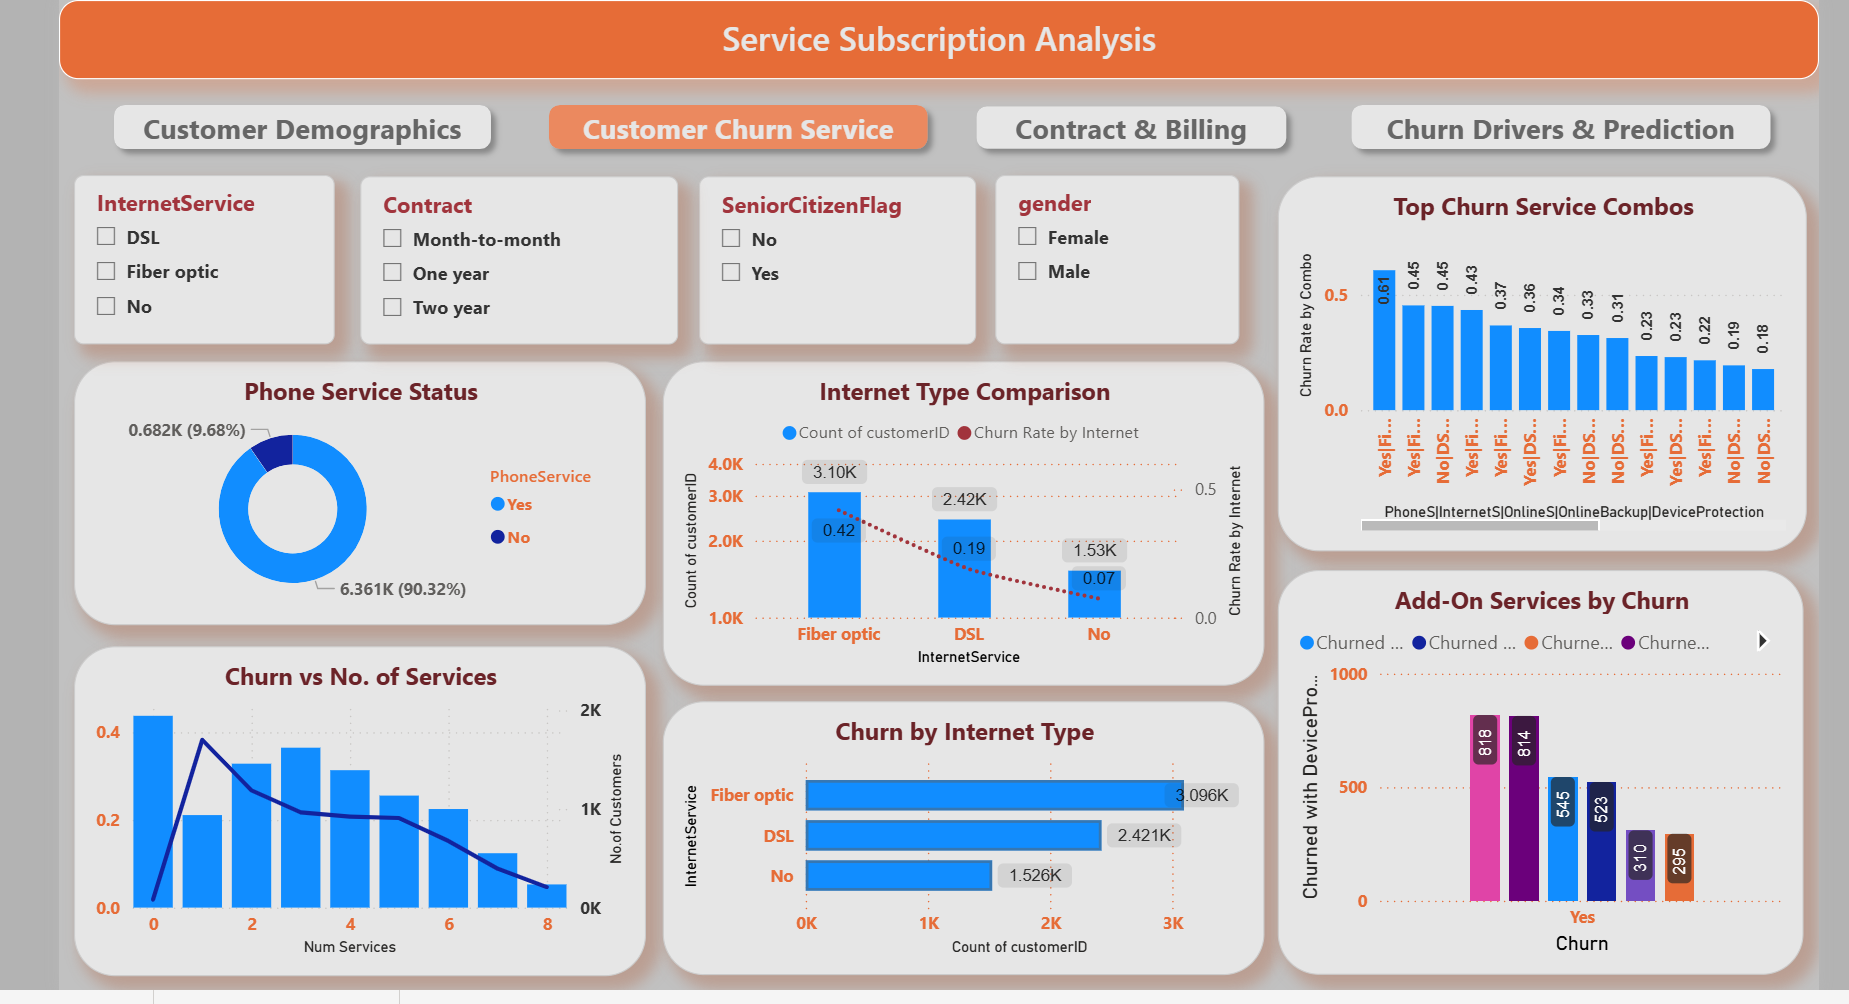

Layout of this report page (visuals, bound fields, positions):
{"tool":"powerbi","page":{"name":"Page 2","canvas":[1280,720],"ordinal":1},"visuals":[{"type":"donutChart","title":"Phone Service Status","fields":{"Y":["CountNonNull(DATASET.customerID)"],"Category":["DATASET.PhoneService"]},"box":[11,262.9,415.8,192],"z":0},{"type":"lineClusteredColumnComboChart","title":"Internet Type Comparison","fields":{"Y2":["DATASET.Churn Rate by Internet"],"Y":["CountNonNull(DATASET.customerID)"],"Category":["DATASET.InternetService"]},"box":[439,262.9,437.8,236],"z":1000},{"type":"lineStackedColumnComboChart","title":"Churn vs No. of Services","fields":{"Category":["DATASET.Num Services"],"Y2":["CountNonNull(DATASET.customerID)"],"Y":["DATASET.Churn Rate"]},"box":[11,469.6,415.8,239.7],"z":2000},{"type":"columnChart","title":"Top Churn Service Combos","fields":{"Category":["DATASET.Service Combo"],"Y":["DATASET.Churn Rate by Combo"]},"box":[886.6,128.4,385.2,272.7],"z":3000},{"type":"barChart","title":"Churn by Internet Type","fields":{"Category":["DATASET.InternetService"],"Y":["CountNonNull(DATASET.customerID)"]},"box":[439,509.9,437.8,199.3],"z":4000},{"type":"slicer","fields":{"Values":["DATASET.SeniorCitizenFlag"]},"box":[465.9,128.4,201.8,122.3],"z":5000},{"type":"slicer","fields":{"Values":["DATASET.gender"]},"box":[681.1,127.2,177.3,123.5],"z":6000},{"type":"slicer","fields":{"Values":["DATASET.InternetService"]},"box":[11,127.2,189.5,123.5],"z":7000},{"type":"slicer","fields":{"Values":["DATASET.Contract"]},"box":[218.9,128.4,231.1,122.3],"z":8000},{"type":"textbox","box":[0,0,1280.3,57.5],"z":9000},{"type":"clusteredColumnChart","title":"Add-On Services by Churn","fields":{"Category":["DATASET.Churn"],"Y":["DATASET.Churned with DeviceProtection","DATASET.Churned with OnlineBackup","DATASET.Churned with OnlineSecurity","DATASET.Churned with StreamingTV","DATASET.Churned with StreamingMovies","DATASET.Churned with TechSupport"]},"box":[886.6,414.5,382.7,294.7],"z":10000},{"type":"shape","box":[30.6,67.3,292.3,50.1],"z":11000},{"type":"shape","box":[347.3,67.3,293.5,50.1],"z":12000},{"type":"shape","box":[657.9,68.5,243.3,48.9],"z":13000},{"type":"shape","box":[930.6,67.3,322.8,50.1],"z":14000}]}

Visuals, with their boxes on the page's 1280x720 design canvas (x1, y1, x2, y2). These are canvas units, not pixel positions in the 1849x1004 screenshot, which may show the page scaled, cropped or inside an application window:
"Phone Service Status" donutChart: bbox(11, 263, 427, 455)
"Internet Type Comparison" lineClusteredColumnComboChart: bbox(439, 263, 877, 499)
"Churn vs No. of Services" lineStackedColumnComboChart: bbox(11, 470, 427, 709)
"Top Churn Service Combos" columnChart: bbox(887, 128, 1272, 401)
"Churn by Internet Type" barChart: bbox(439, 510, 877, 709)
slicer - DATASET.SeniorCitizenFlag: bbox(466, 128, 668, 251)
slicer - DATASET.gender: bbox(681, 127, 858, 251)
slicer - DATASET.InternetService: bbox(11, 127, 200, 251)
slicer - DATASET.Contract: bbox(219, 128, 450, 251)
textbox: bbox(0, 0, 1280, 58)
"Add-On Services by Churn" clusteredColumnChart: bbox(887, 414, 1269, 709)
shape: bbox(31, 67, 323, 117)
shape: bbox(347, 67, 641, 117)
shape: bbox(658, 68, 901, 117)
shape: bbox(931, 67, 1253, 117)
